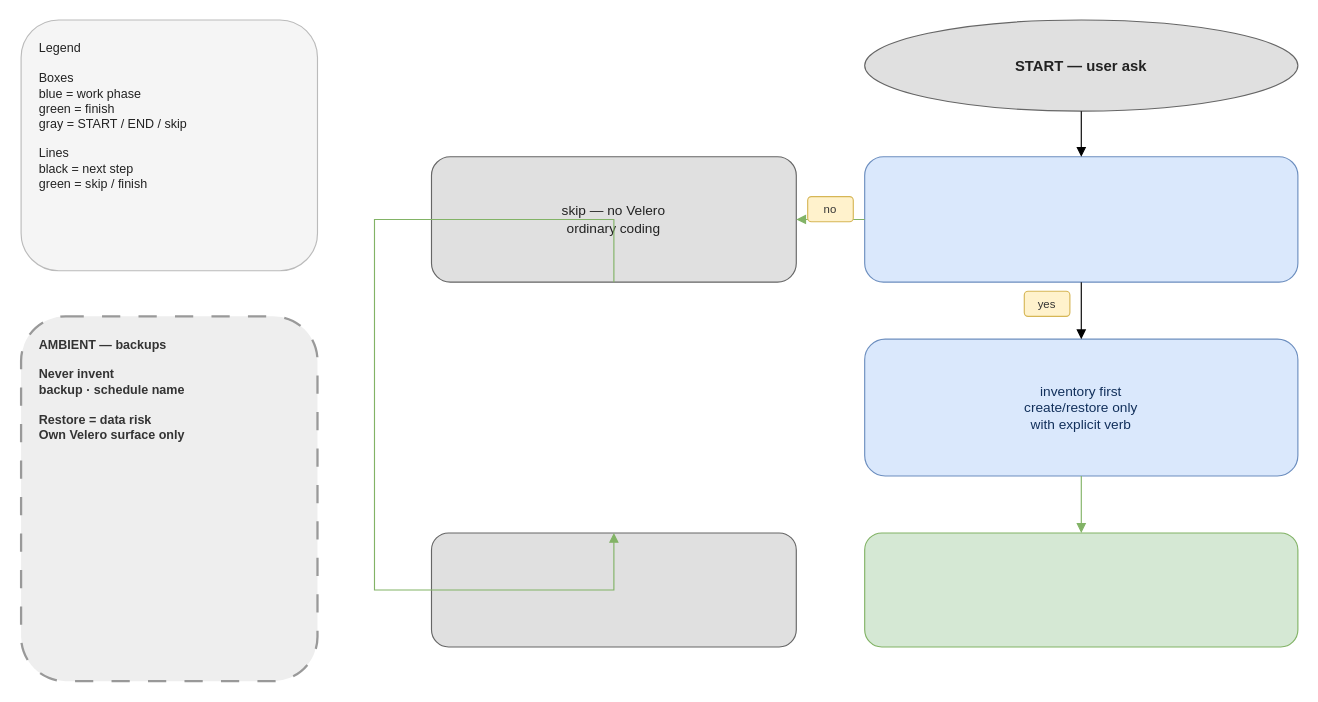
The diagram is 1318 pixels wide and 702 high, and some of its shapes have lost their labels. The shapes that lost their labels are listed below. From the top down, each one's centre as x and y in pixels, then its label:
pixel 1081 219: gate · Velero? backup / restore ask
pixel 613 589: END — stay out
pixel 1081 589: END — backup name + phase
